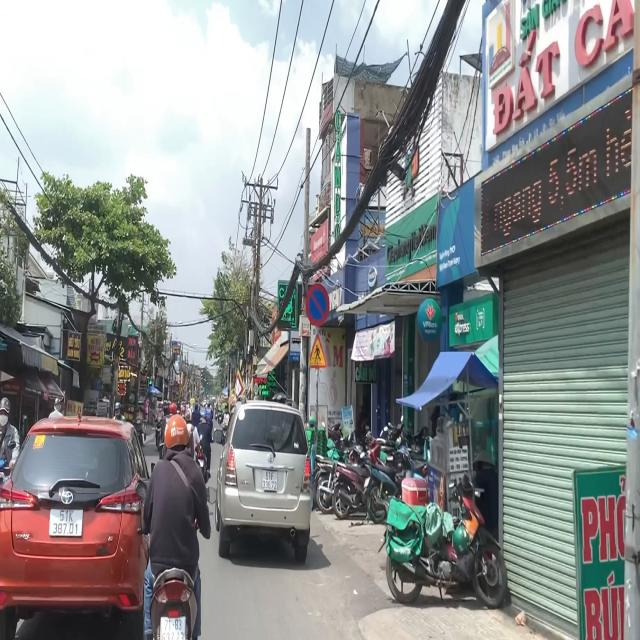Ben xe buyt: (289, 329, 303, 362)
Cam do: (305, 283, 330, 326)
Nguoi di bo cat ngang: (308, 333, 327, 368)
